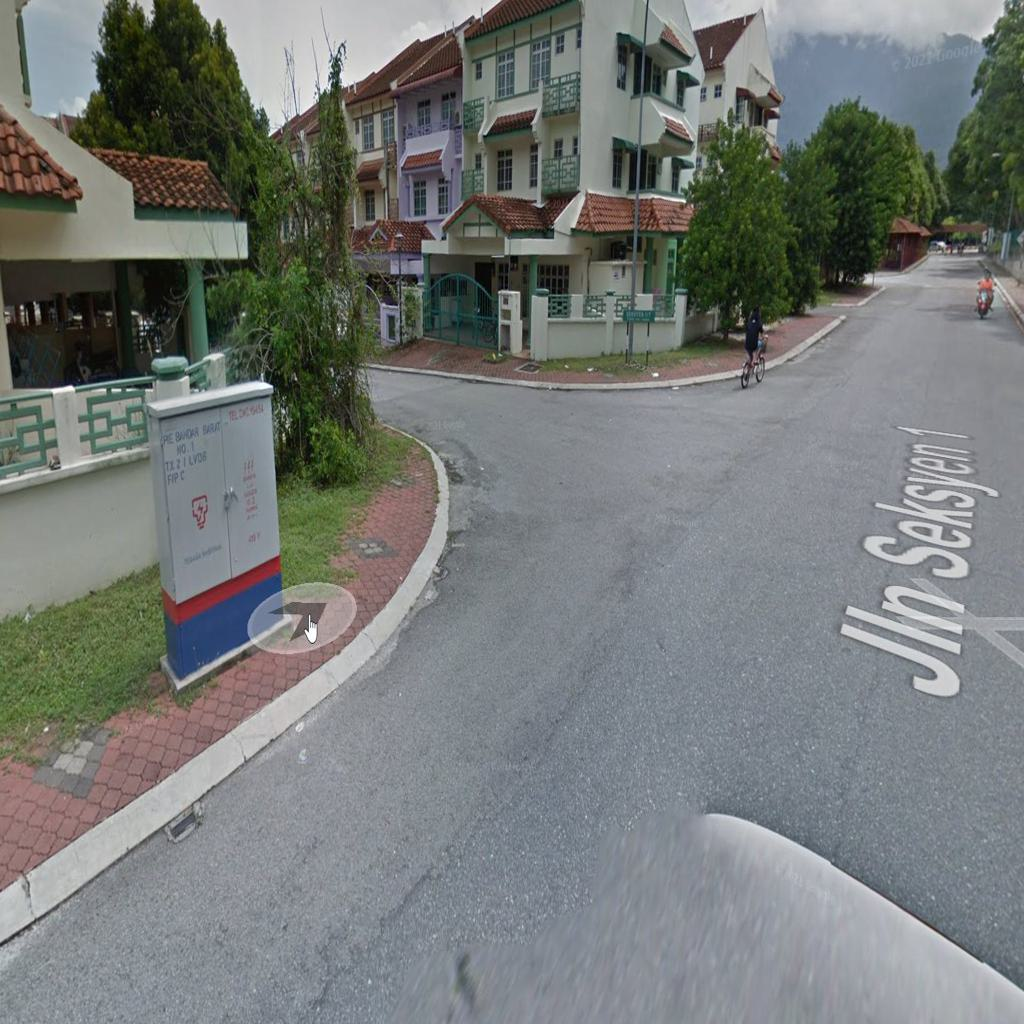Junction: (365, 360, 740, 576)
